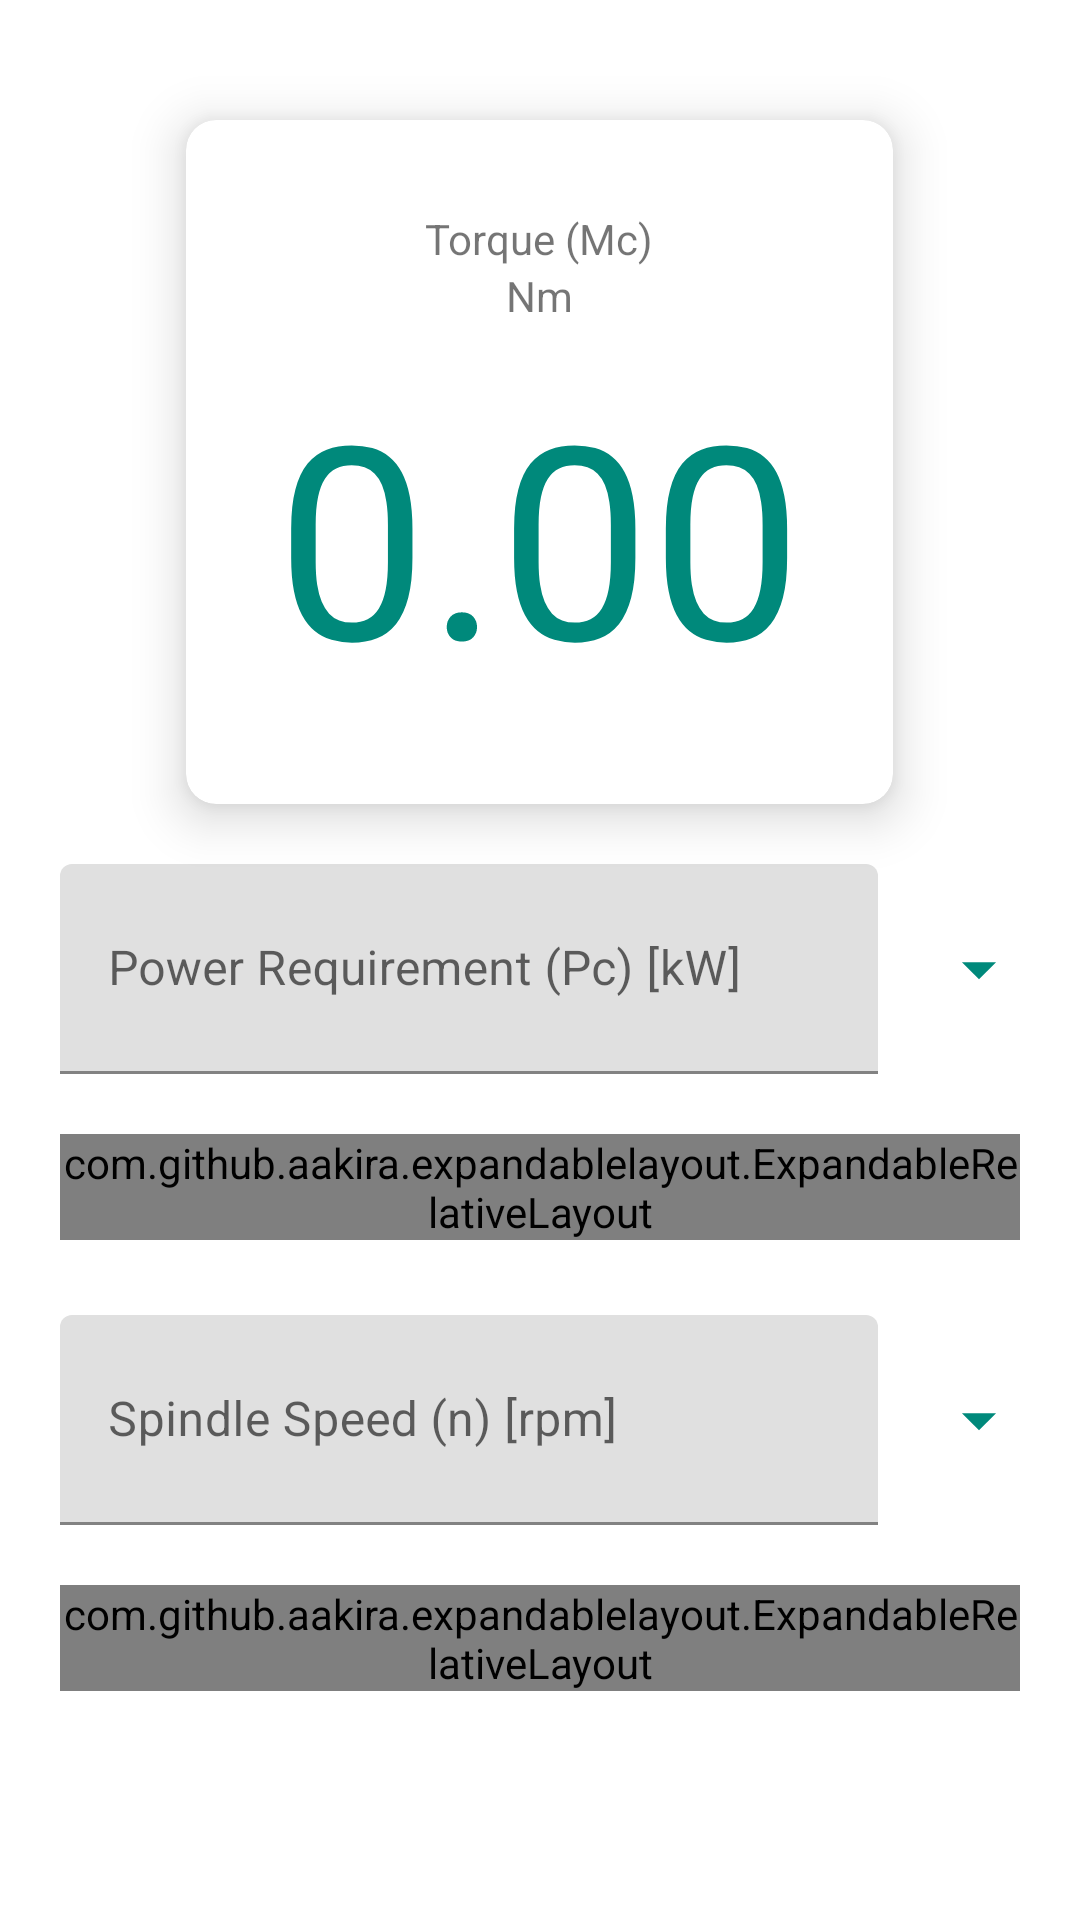

Icons on this 1080w x 1920h Android screen, each with the point to tap as [x,y]:
arrow drop down: [979,970], [979,1421]
